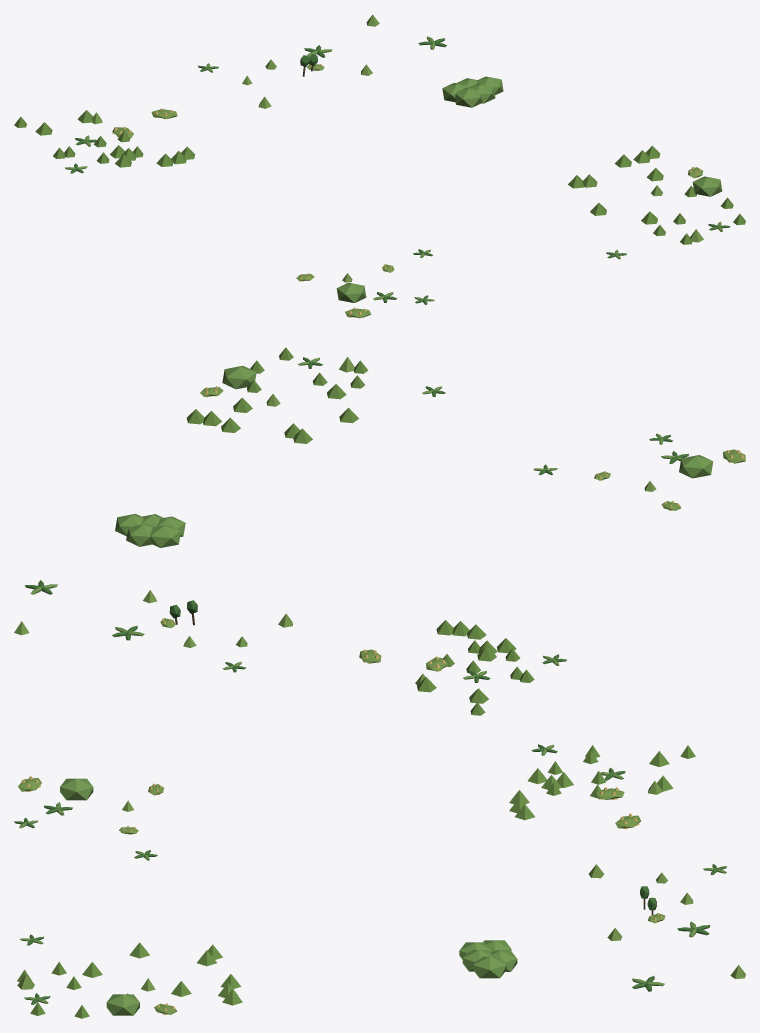
The model's file is shaded_grove_nonsolid_props.fbx.
3 views of the same model, one above another, from view 1: azimuth 30°, elevation 25°; view 2: azimuth 150°, elevation 25°; view 3: azimuth 270°, elevation 25° (orthographic). The views are drawn at different scales.
Visible parts, largest first — view 1: chunk_shaded_grove__PropsNonSolid; view 2: chunk_shaded_grove__PropsNonSolid; view 3: chunk_shaded_grove__PropsNonSolid.
Boxes of the visible parts, bbox=[...] form: chunk_shaded_grove__PropsNonSolid: bbox=[14, 14, 745, 318]; chunk_shaded_grove__PropsNonSolid: bbox=[14, 347, 745, 715]; chunk_shaded_grove__PropsNonSolid: bbox=[14, 744, 745, 1018].
Size of the model in its own units: 164 by 7.8 by 186.
